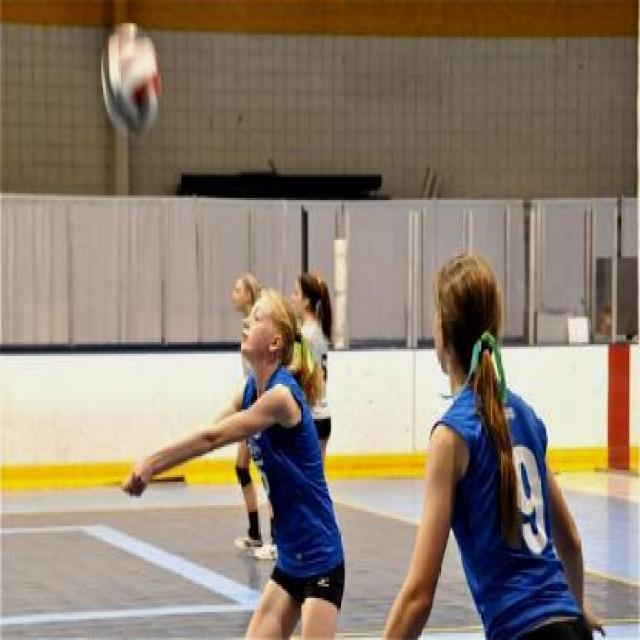volleyball: (100, 22, 162, 135)
